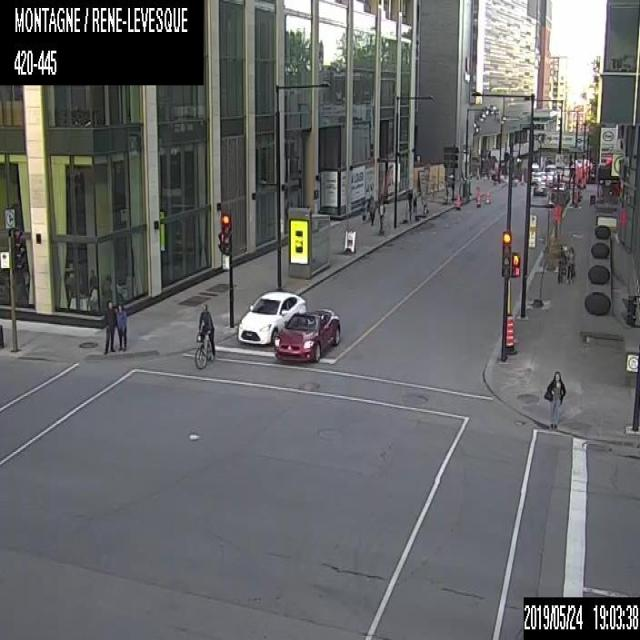construction: (505, 313, 513, 351), (454, 190, 461, 210), (475, 188, 481, 205), (485, 188, 490, 204)
cyclist: (193, 304, 215, 369)
pedestrian: (545, 369, 565, 427), (104, 300, 115, 354), (116, 302, 126, 353), (557, 244, 566, 284), (566, 243, 574, 285), (366, 192, 376, 224), (406, 184, 414, 214), (86, 284, 96, 308), (378, 199, 385, 232), (89, 268, 96, 292)
vehicle: (273, 307, 342, 363), (238, 288, 306, 344), (550, 181, 566, 203), (532, 180, 546, 195)
